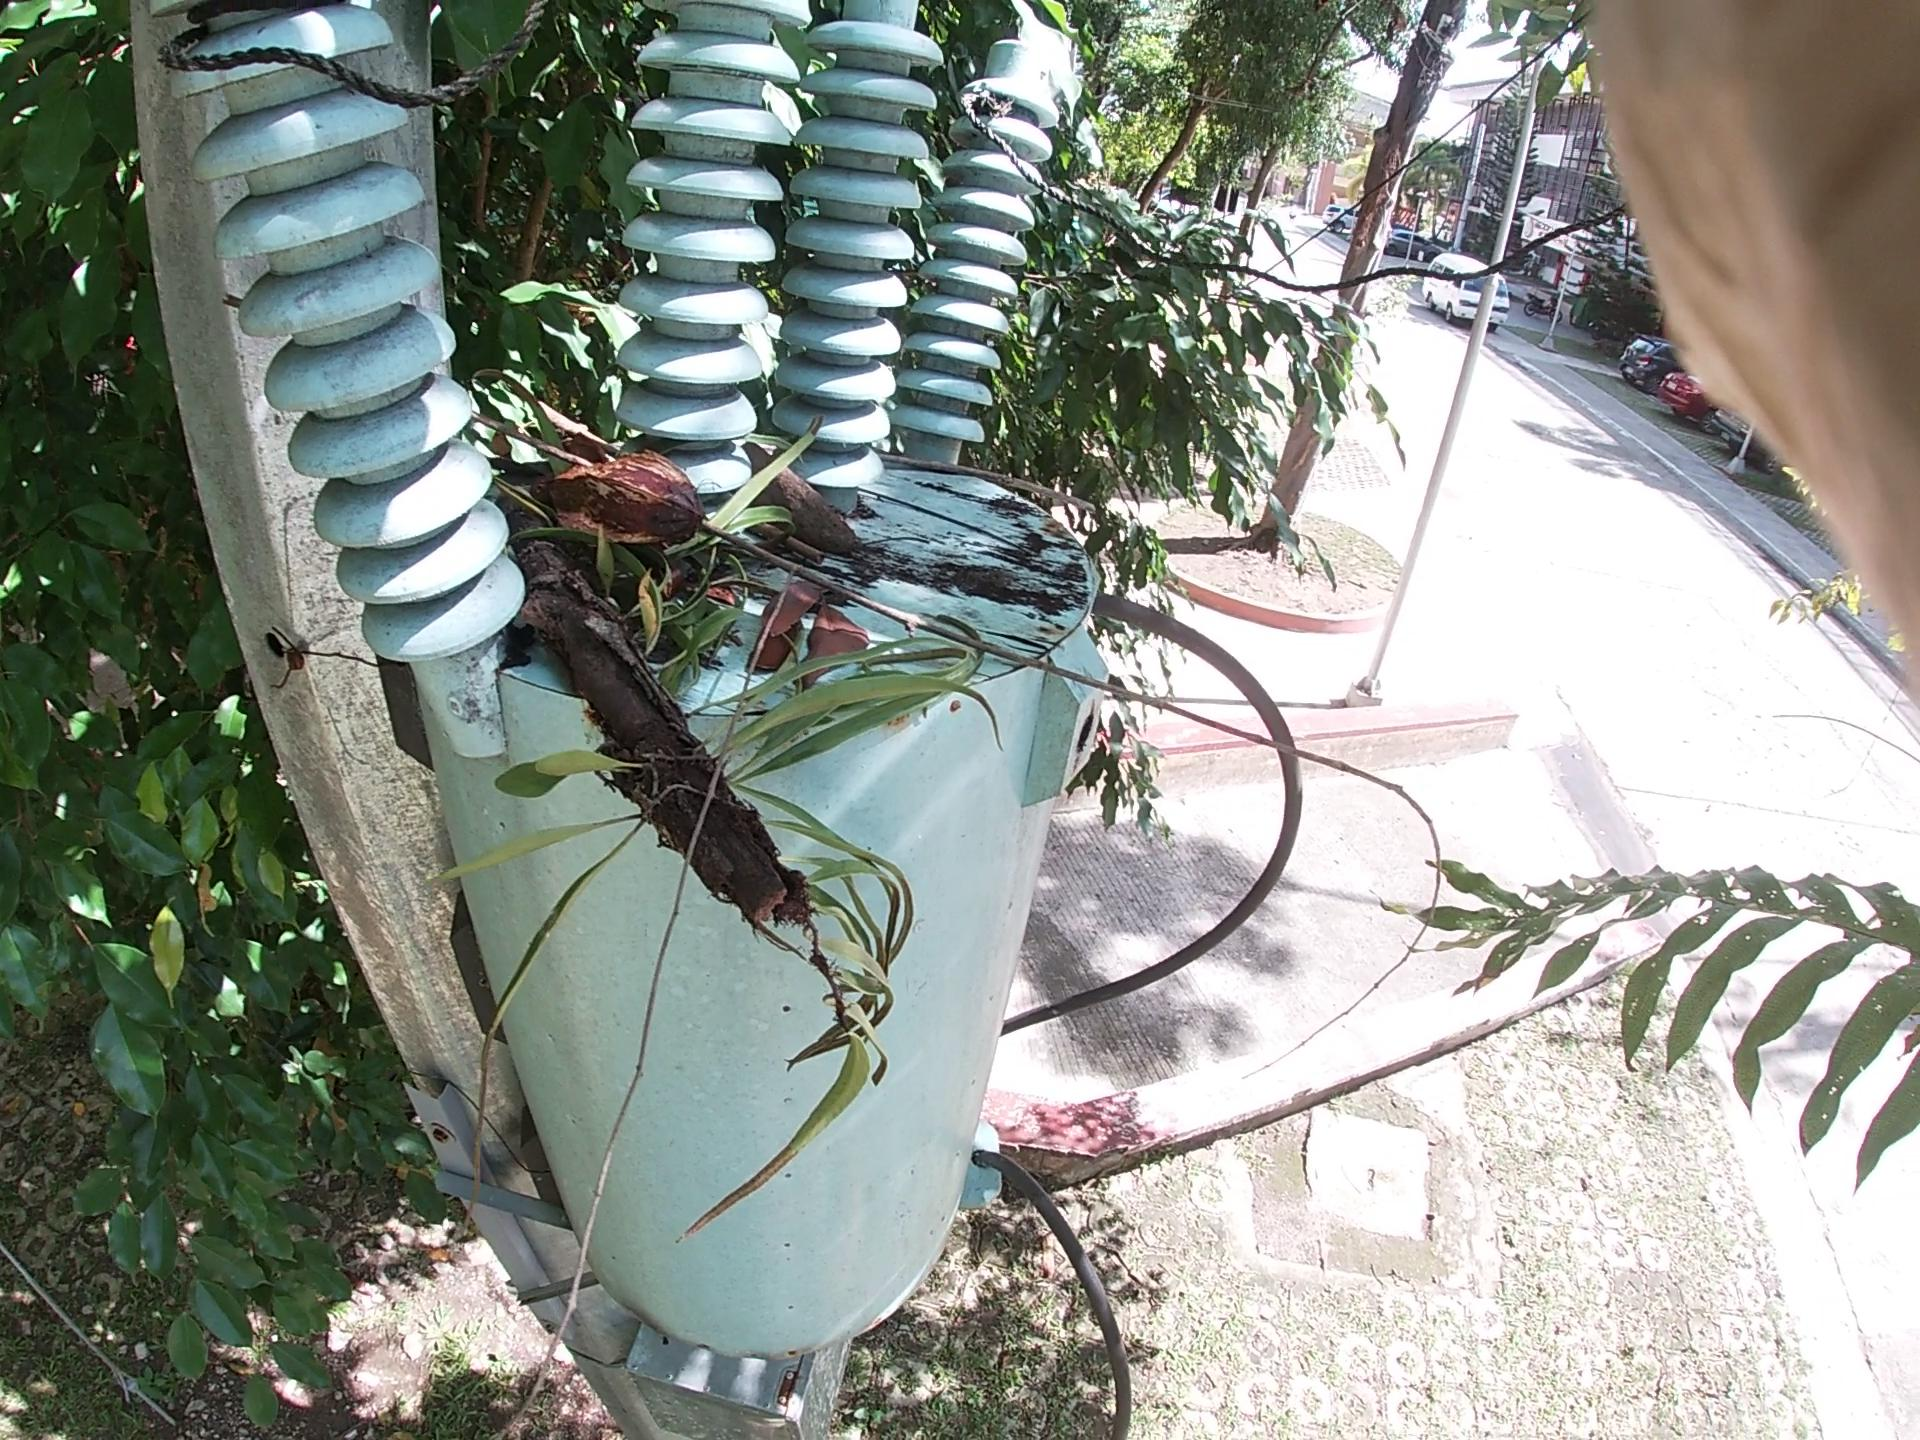branch with leaves: (441, 452, 807, 939)
leaf: (736, 582, 1019, 726)
mahogany fruit: (714, 427, 930, 640), (531, 445, 770, 554)
tree branch: (632, 492, 1441, 815), (854, 449, 1252, 575), (698, 501, 831, 604)
